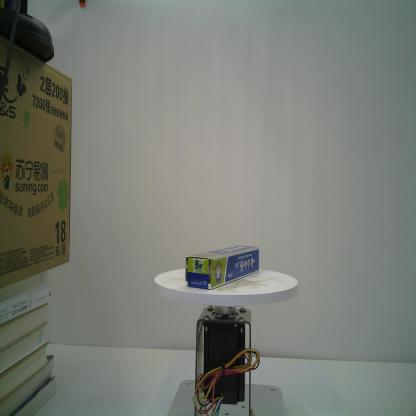Personal Hygiene: (183, 243, 259, 291)
